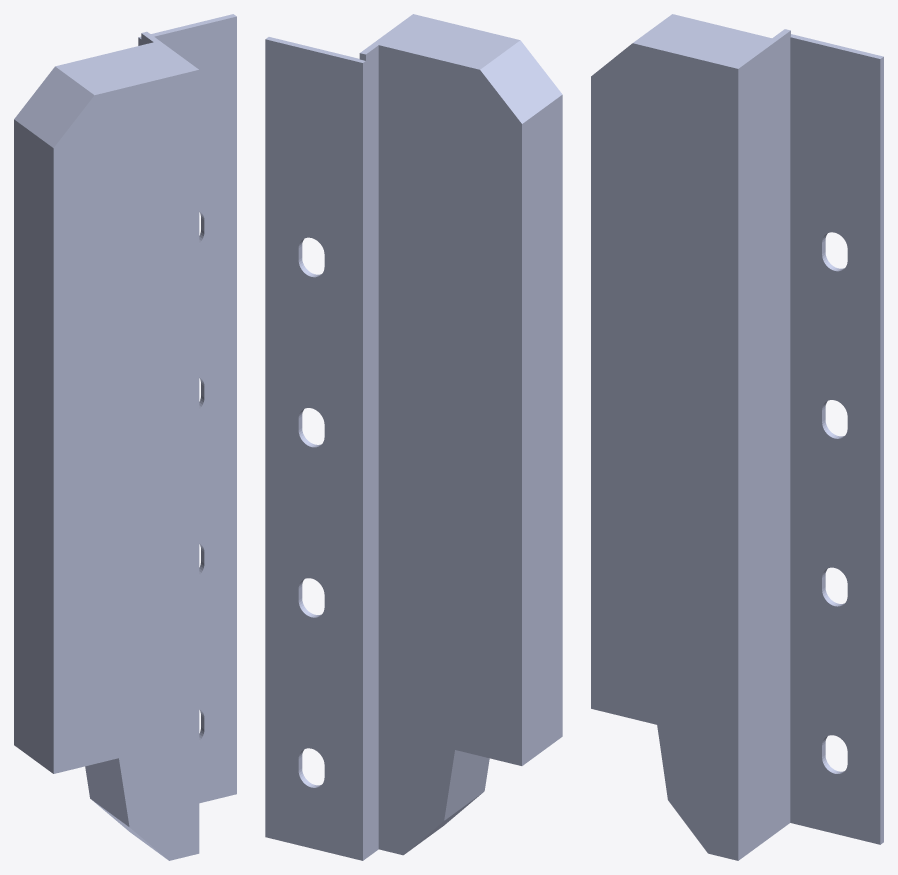
3 views of the same model, side by side, from view 1: azimuth 30°, elevation 25°; view 2: azimuth 150°, elevation 25°; view 3: azimuth 330°, elevation 25° (orthographic). The views are drawn at different scales.
Visible parts, largest first — view 1: 41201165; view 2: 41201165; view 3: 41201165.
Part boxes in pixels (x1,y1,x2,y2): 41201165: (14,14,236,860); 41201165: (265,14,562,860); 41201165: (591,14,883,860).
Bounding box in the file's own units: 0.0474 × 0.1512 × 0.0192.
